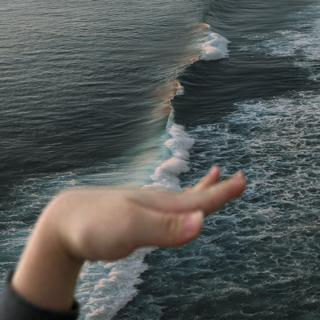Wait: (32, 160, 249, 270)
